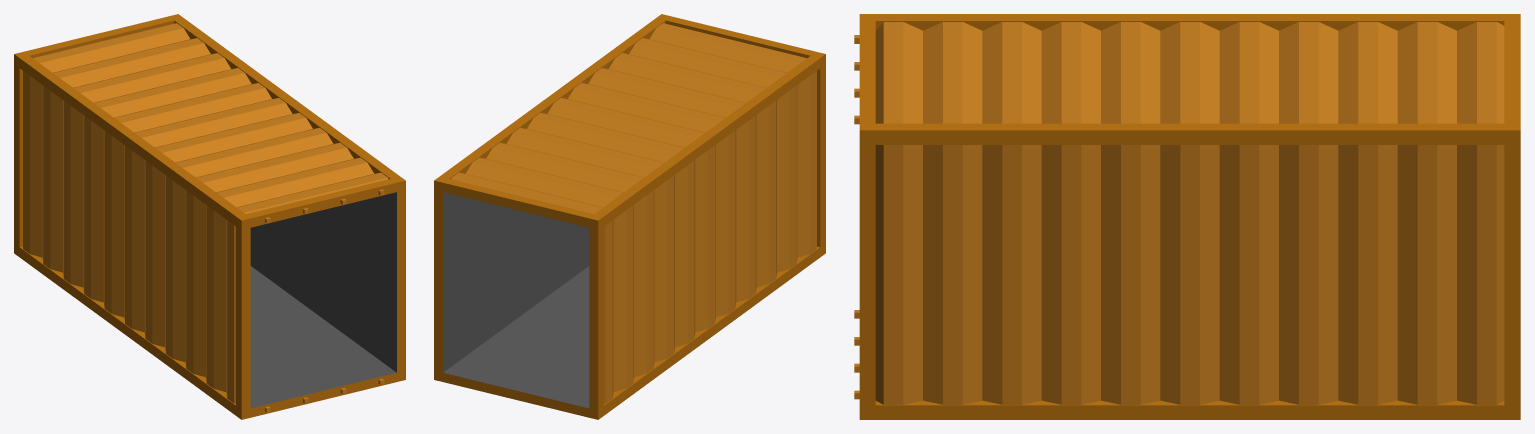
Rendered from ShippingContainer_02.fbx.
3 views of the same model, side by side, from view 1: azimuth 30°, elevation 25°; view 2: azimuth 150°, elevation 25°; view 3: azimuth 270°, elevation 25° (orthographic). The views are drawn at different scales.
Visible parts, largest first — view 1: ShippingContainer_02; view 2: ShippingContainer_02; view 3: ShippingContainer_02.
Boxes of the visible parts, x1,y1,x2,y2 form: ShippingContainer_02: (14, 14, 405, 419); ShippingContainer_02: (434, 14, 825, 419); ShippingContainer_02: (854, 14, 1520, 419).
Size of the model in its own units: 250 by 290 by 605.
